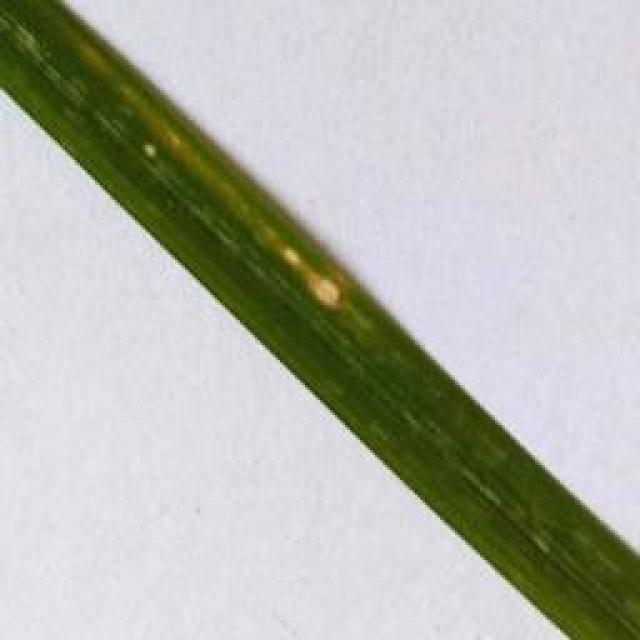Unhealthy: (270, 240, 341, 308), (145, 142, 157, 161)
